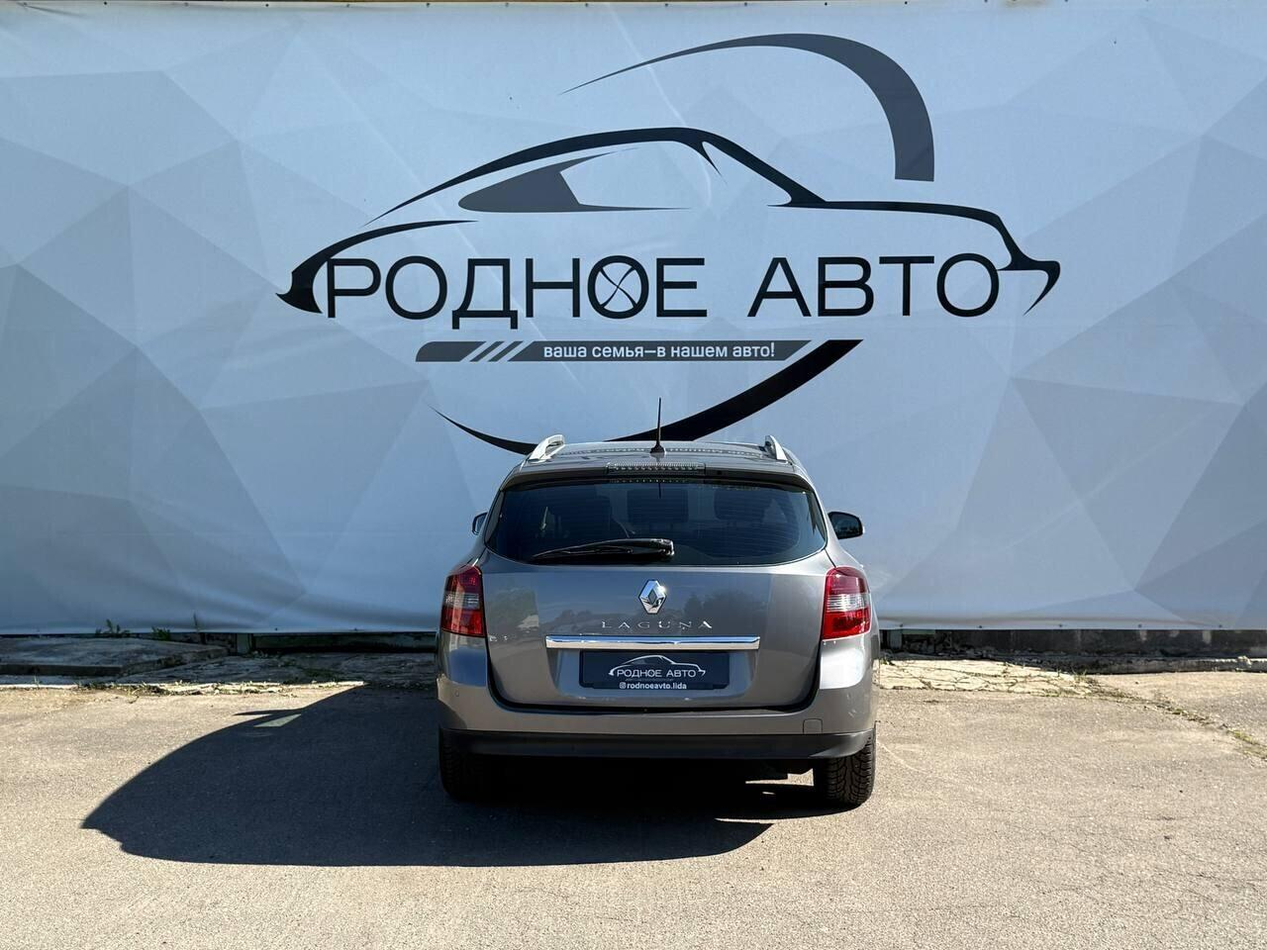Laguna_2010-2015: (431, 434, 883, 821)
